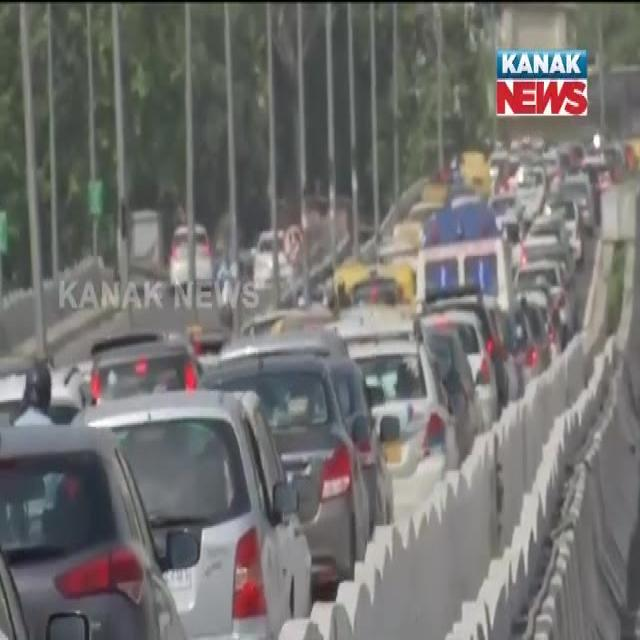ambulance: (409, 208, 515, 294)
